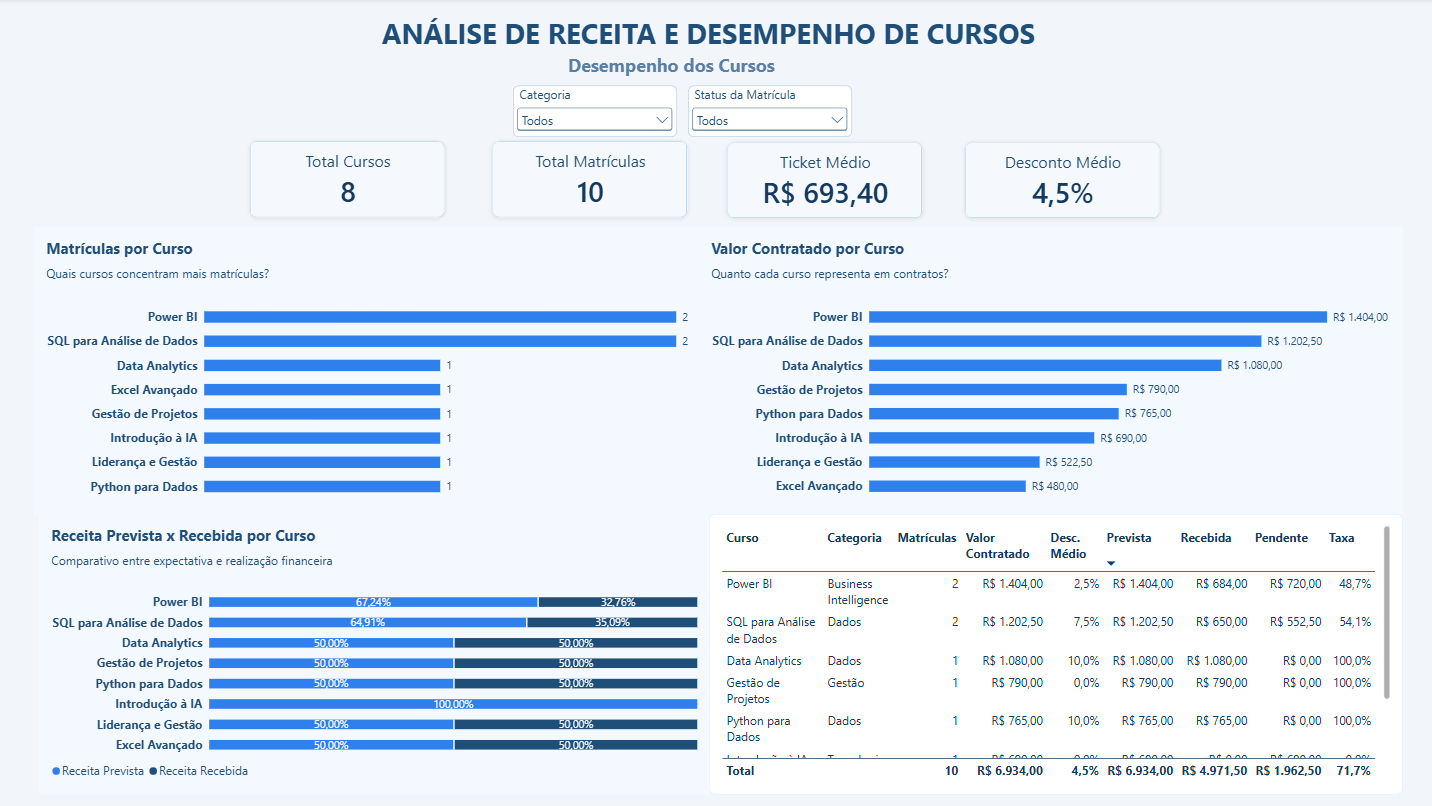

The dashboard page shown, as its layout file describes it:
{"tool":"powerbi","page":{"name":"Cursos","canvas":[1920,1080],"ordinal":1},"visuals":[{"type":"textbox","box":[512.6,0,895.8,84],"z":0},{"type":"textbox","box":[761.4,73.5,364,38.4],"z":1000},{"type":"slicer","fields":{"Values":["vw_resumo_cursos.categoria"]},"box":[687.6,116.9,219,68.8],"z":2000},{"type":"slicer","fields":{"Values":["vw_matriculas_detalhadas.status_matricula"]},"box":[921.1,116.9,219,68.8],"z":3000},{"type":"cardVisual","fields":{"Data":["vw_matriculas_detalhadas.Total Cursos"]},"box":[335.9,190.1,262,104],"z":4000},{"type":"cardVisual","fields":{"Data":["vw_matriculas_detalhadas.Total Matrículas"]},"box":[659.1,190.4,262,104],"z":5000},{"type":"cardVisual","fields":{"Data":["vw_financeiro.Ticket Médio"]},"box":[972.9,191.9,262.7,103.1],"z":6000},{"type":"cardVisual","fields":{"Data":["vw_matriculas_detalhadas.Desconto Médio"]},"box":[1291.4,191.9,262.7,103.1],"z":7000},{"type":"clusteredBarChart","title":"Matrículas por Curso","fields":{"Category":["vw_matriculas_detalhadas.nome_curso"],"Y":["vw_matriculas_detalhadas.Total Matrículas"]},"box":[47.6,305.6,889.5,384.5],"z":8000},{"type":"clusteredBarChart","title":"Valor Contratado por Curso","fields":{"Category":["vw_matriculas_detalhadas.nome_curso"],"Y":["vw_matriculas_detalhadas.Valor Contratado"]},"box":[936.7,305.6,940.1,384],"z":9000},{"type":"hundredPercentStackedBarChart","title":"Receita Prevista x Recebida por Curso","fields":{"Category":["vw_financeiro.nome_curso"],"Y":["vw_financeiro.Receita Prevista","vw_financeiro.Receita Recebida"]},"box":[55.1,689.6,888.3,390.7],"z":10000},{"type":"tableEx","fields":{"Values":["vw_resumo_cursos.nome_curso","vw_resumo_cursos.categoria","vw_matriculas_detalhadas.Total Matrículas","vw_matriculas_detalhadas.Valor Contratado","vw_matriculas_detalhadas.Desconto Médio","vw_financeiro.Receita Prevista","vw_financeiro.Receita Recebida","vw_financeiro.Saldo Pendente","vw_financeiro.Taxa de Recebimento"]},"box":[950.1,689.6,926.7,374],"z":11000}]}

Visuals, with their boxes in screenshot pixels (x1, y1, x2, y2), scaled from the page's 1920x1080 canvas onto the 1432x806 screenshot:
textbox: <region>382, 0, 1050, 63</region>
textbox: <region>568, 55, 839, 84</region>
slicer - vw_resumo_cursos.categoria: <region>513, 87, 676, 139</region>
slicer - vw_matriculas_detalhadas.status_matricula: <region>687, 87, 850, 139</region>
cardVisual - vw_matriculas_detalhadas.Total Cursos: <region>251, 142, 446, 219</region>
cardVisual - vw_matriculas_detalhadas.Total Matrículas: <region>492, 142, 687, 220</region>
cardVisual - vw_financeiro.Ticket Médio: <region>726, 143, 922, 220</region>
cardVisual - vw_matriculas_detalhadas.Desconto Médio: <region>963, 143, 1159, 220</region>
"Matrículas por Curso" clusteredBarChart: <region>36, 228, 699, 515</region>
"Valor Contratado por Curso" clusteredBarChart: <region>699, 228, 1400, 515</region>
"Receita Prevista x Recebida por Curso" hundredPercentStackedBarChart: <region>41, 515, 704, 805</region>
tableEx - vw_resumo_cursos.nome_curso x vw_resumo_cursos.categoria: <region>709, 515, 1400, 794</region>
